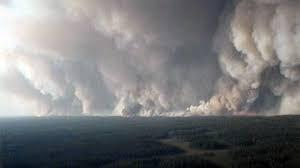yanwu: (3, 0, 298, 116)
